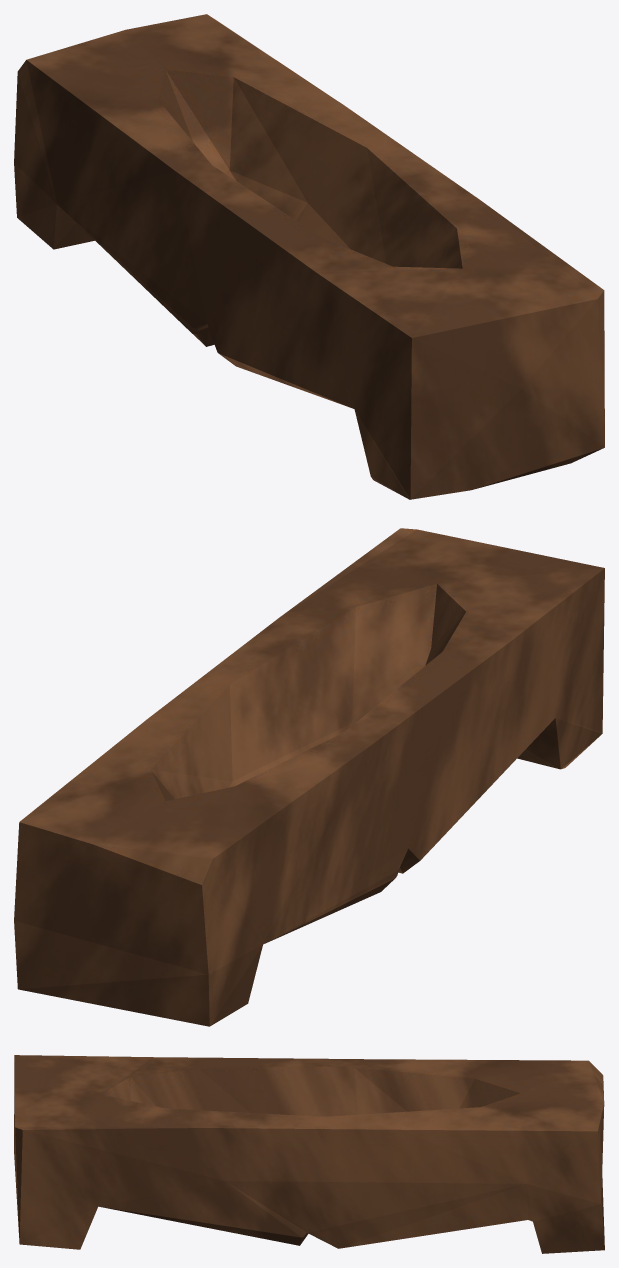
The model's file is Yagyeon_body.fbx.
3 views of the same model, one above another, from view 1: azimuth 30°, elevation 25°; view 2: azimuth 150°, elevation 25°; view 3: azimuth 270°, elevation 25° (orthographic). The views are drawn at different scales.
Visible parts, largest first — view 1: 하단_바디_1; view 2: 하단_바디_1; view 3: 하단_바디_1.
Part boxes in pixels (<box>): 하단_바디_1: <box>14,14,604,499</box>; 하단_바디_1: <box>14,528,604,1026</box>; 하단_바디_1: <box>14,1055,604,1253</box>.
Size of the model in its own units: 2.72 by 2.24 by 9.11.
Materials: 1 (1 with a texture image).
